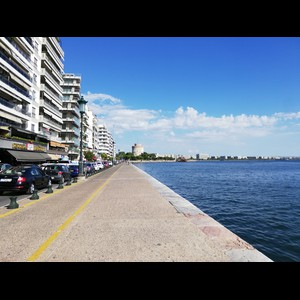White Tower: (131, 142, 144, 158)
